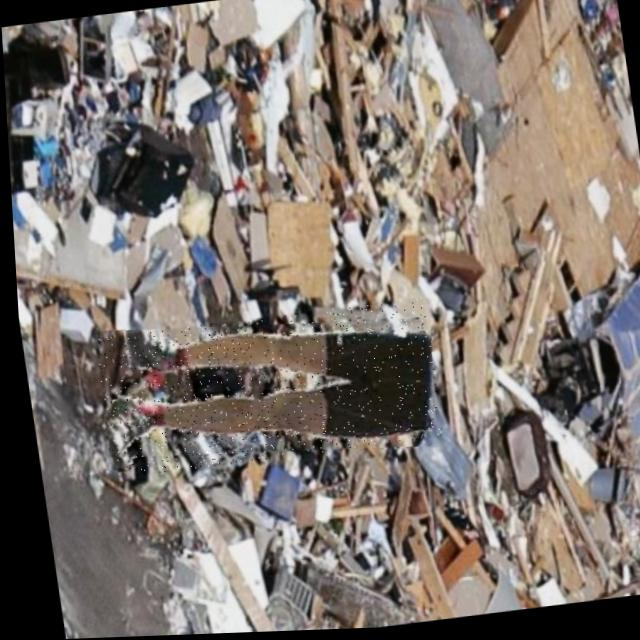Person in Rubble: (88, 300, 438, 479)
